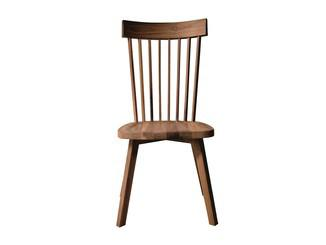chair: (100, 13, 252, 236)
